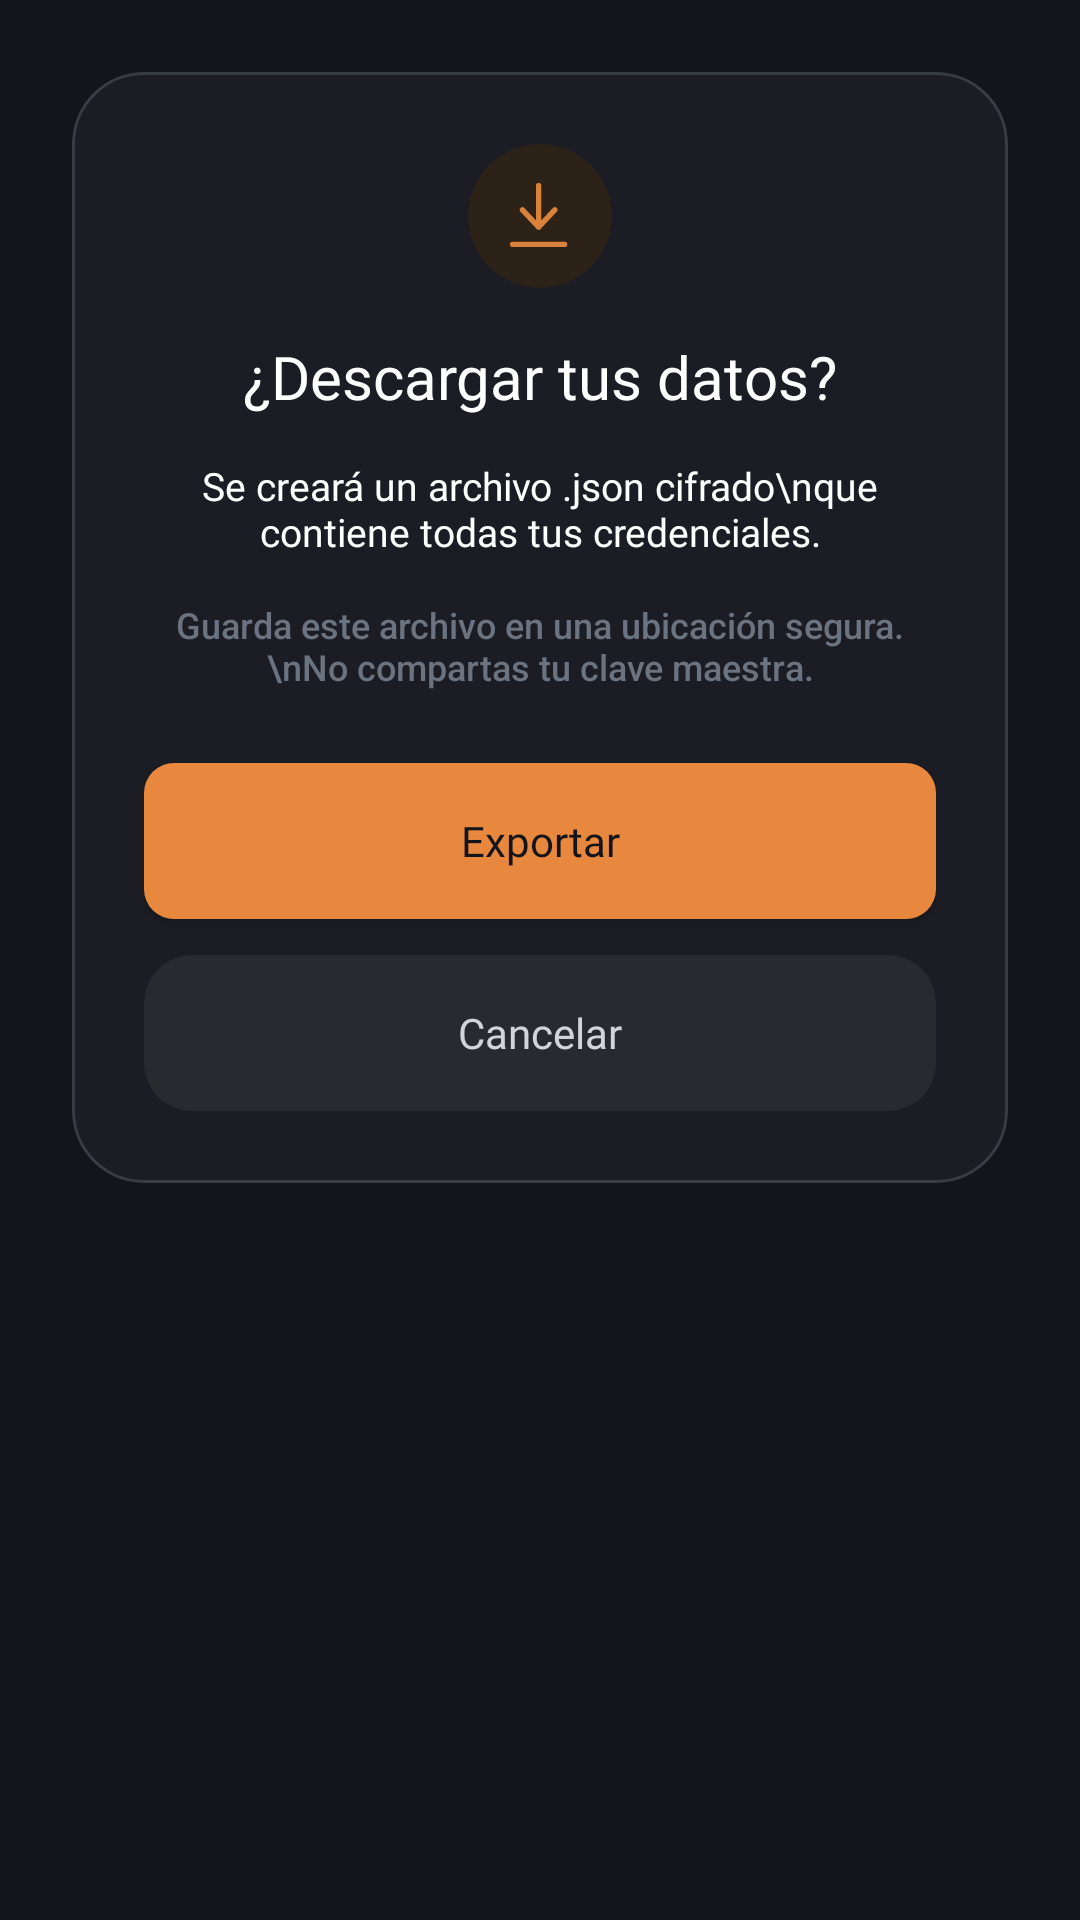

Icons on this 1080px x 1920px Android screen, each with its box as {"x1": x1, "y1": y1, "x2": x2, "y2": y2}:
vault export: {"x1": 510, "y1": 183, "x2": 568, "y2": 247}
